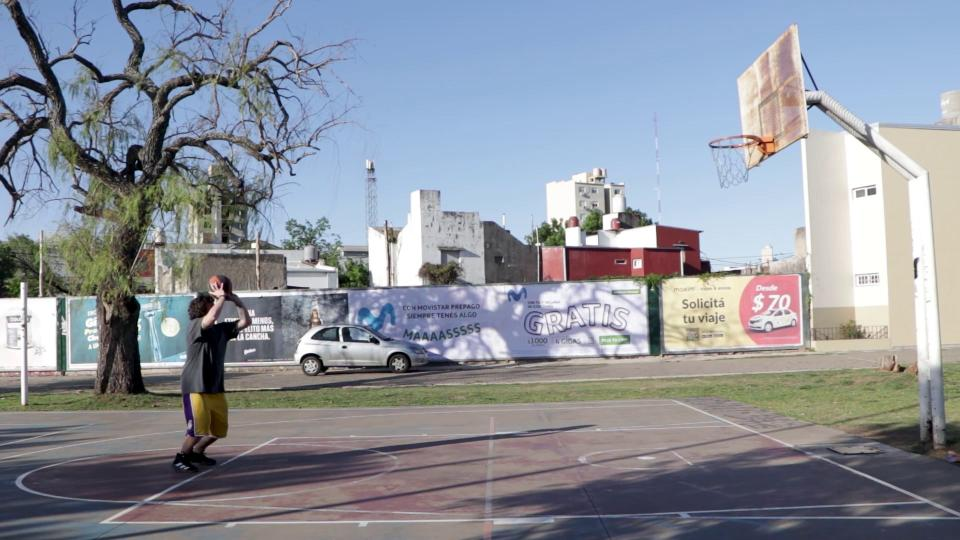hoop: (707, 133, 778, 159)
